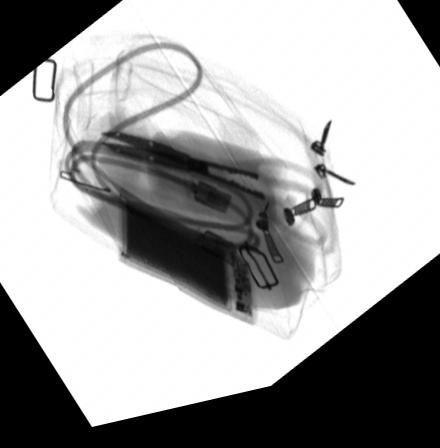Powerbank: (113, 184, 256, 340)
Scissors: (94, 126, 330, 263)
